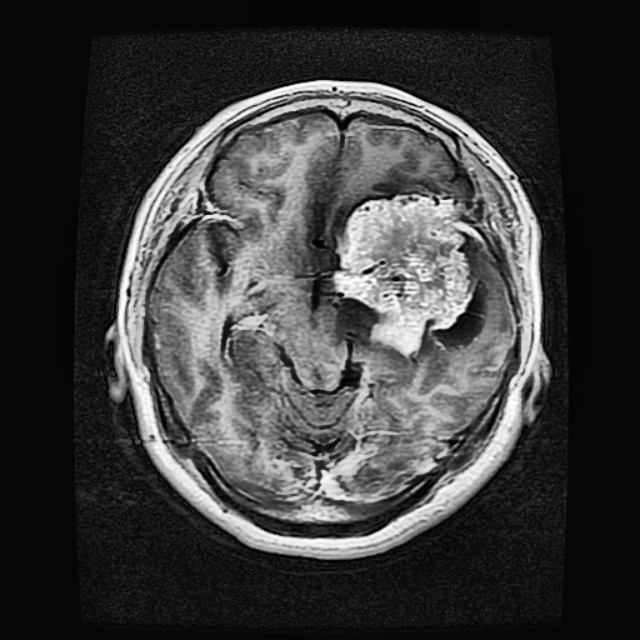Glioma: (334, 195, 477, 352)
